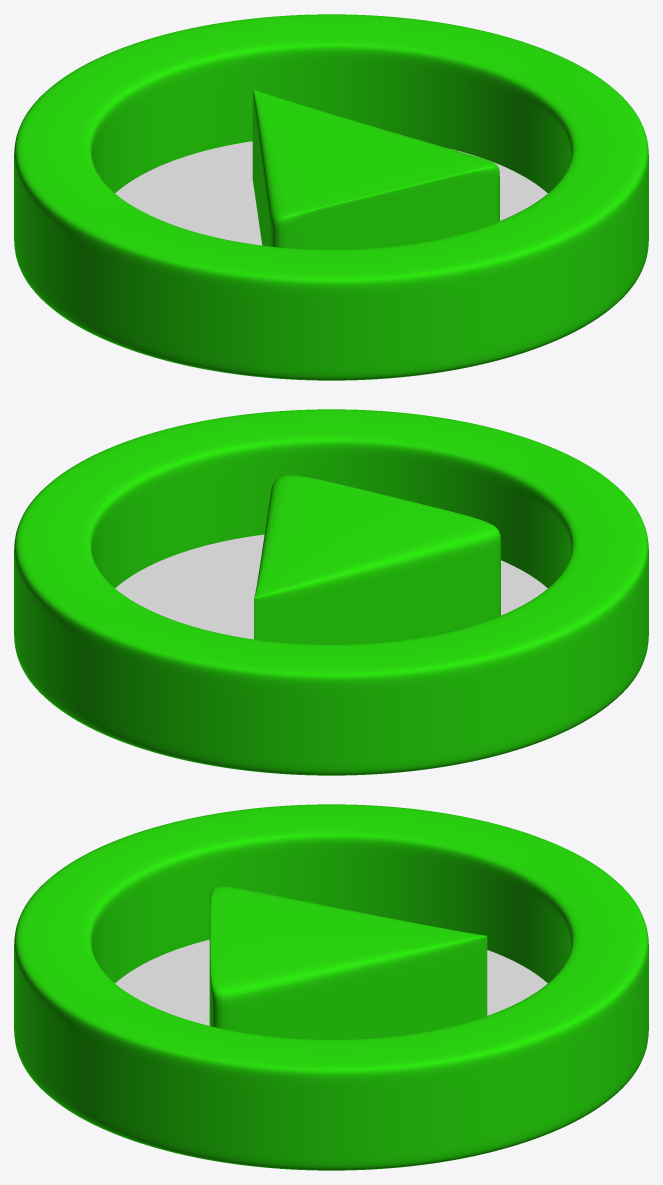
File: strzalka4.gltf
The picture shows the model from 3 angles, top to bottom: view 1: azimuth 30°, elevation 25°; view 2: azimuth 150°, elevation 25°; view 3: azimuth 270°, elevation 25°; orthographic projection.
Visible parts, largest first — view 1: Cube; view 2: Cube; view 3: Cube.
Boxes of the visible parts, <box> form: Cube: <box>14,14,648,380</box>; Cube: <box>14,409,648,775</box>; Cube: <box>14,804,648,1170</box>.
Bounding box in the file's own units: 4.57 × 0.8303 × 4.57.
